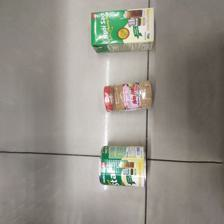Hao_hao: (102, 80, 153, 112)
NSPN_Hop: (92, 6, 156, 53)
NSPN_Lon: (97, 143, 148, 188)
